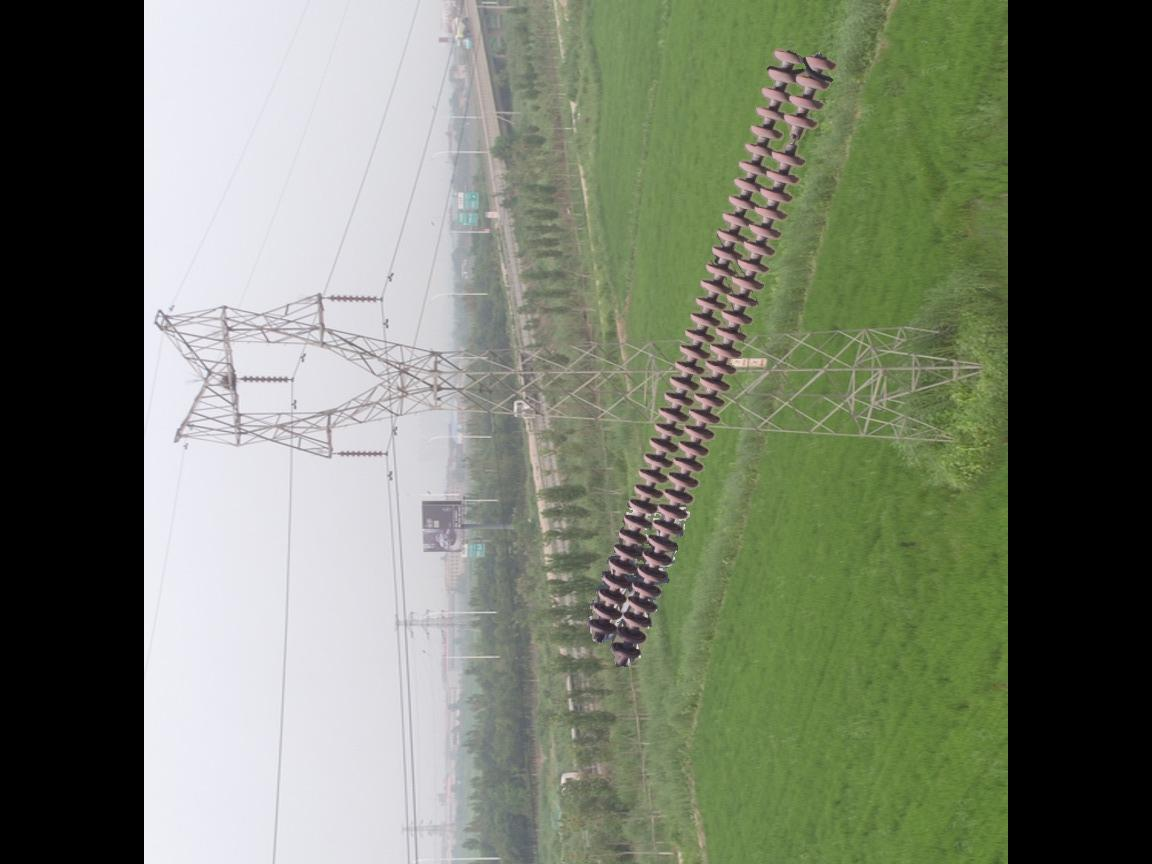insulator: (582, 41, 840, 667), (235, 371, 295, 390), (326, 290, 380, 308), (334, 446, 389, 463)
insulator_stringdrop: (769, 109, 821, 170)
